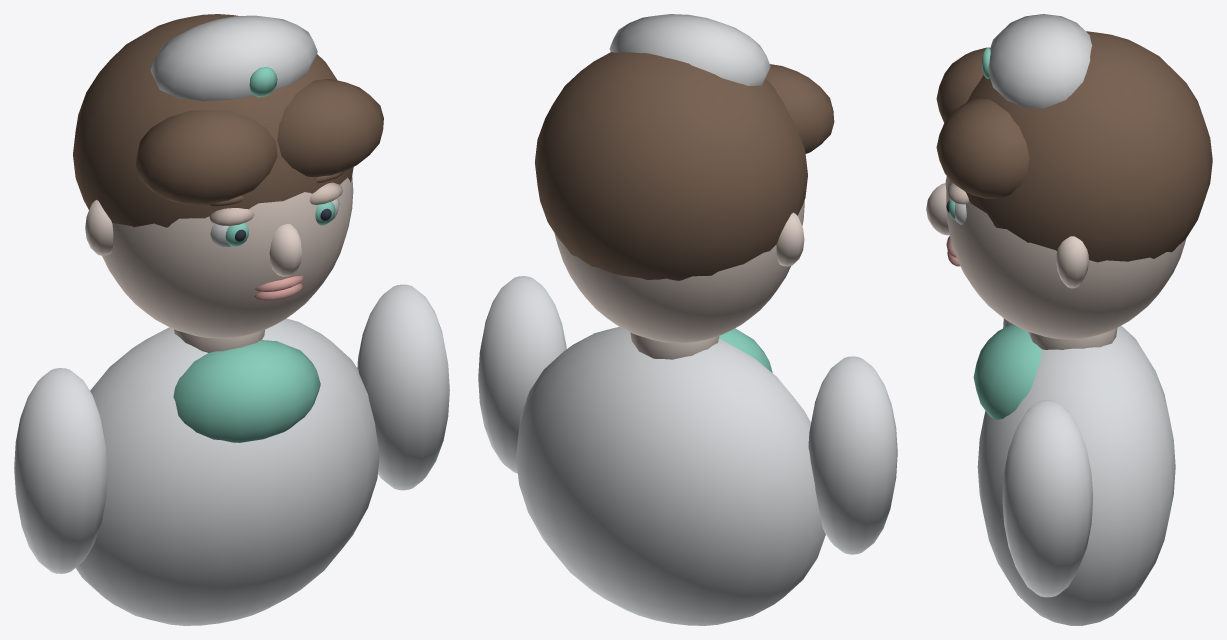
File: elena.glb
The picture shows the model from 3 angles, left to right: view 1: azimuth 30°, elevation 25°; view 2: azimuth 150°, elevation 25°; view 3: azimuth 270°, elevation 25°; orthographic projection. The views are drawn at different scales.
Visible parts, largest first — view 1: elena; view 2: elena; view 3: elena.
Boxes of the visible parts, <box> form: elena: <box>14,14,449,625</box>; elena: <box>478,14,897,625</box>; elena: <box>926,14,1212,625</box>.
Size of the model in its own units: 1.13 by 1.55 by 0.695.
